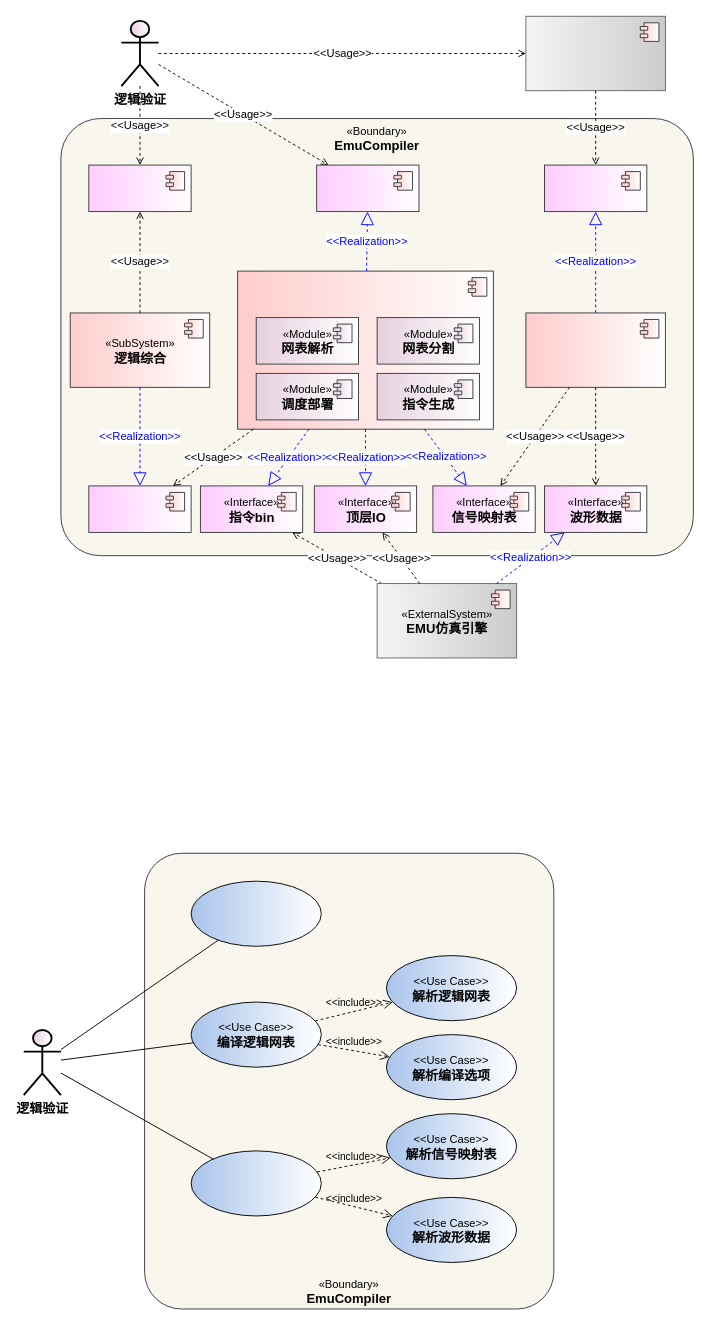
This 710x1325 diagram has some shape labels left out. Here are the shapes that lost their labels. From the top down, the box of each, then its label:
(525, 15, 665, 91): «ExternalSystem» 波形查看工具
(88, 164, 191, 212): «Interface» RTL Code
(316, 164, 419, 212): «Interface» 编译选项
(544, 164, 647, 212): «Interface» 波形文件
(237, 270, 493, 429): «SubSystem» 调度编译
(525, 312, 665, 387): «SubSystem» 波形恢复
(88, 485, 191, 532): «Interface» 网表
(190, 880, 321, 946): <<Use Case>> 综合RTL代码
(190, 1150, 321, 1216): <<Use Case>> 恢复波形文件
